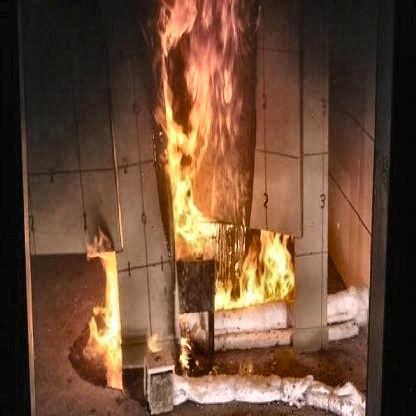fire: (146, 0, 313, 339), (61, 208, 154, 398)
